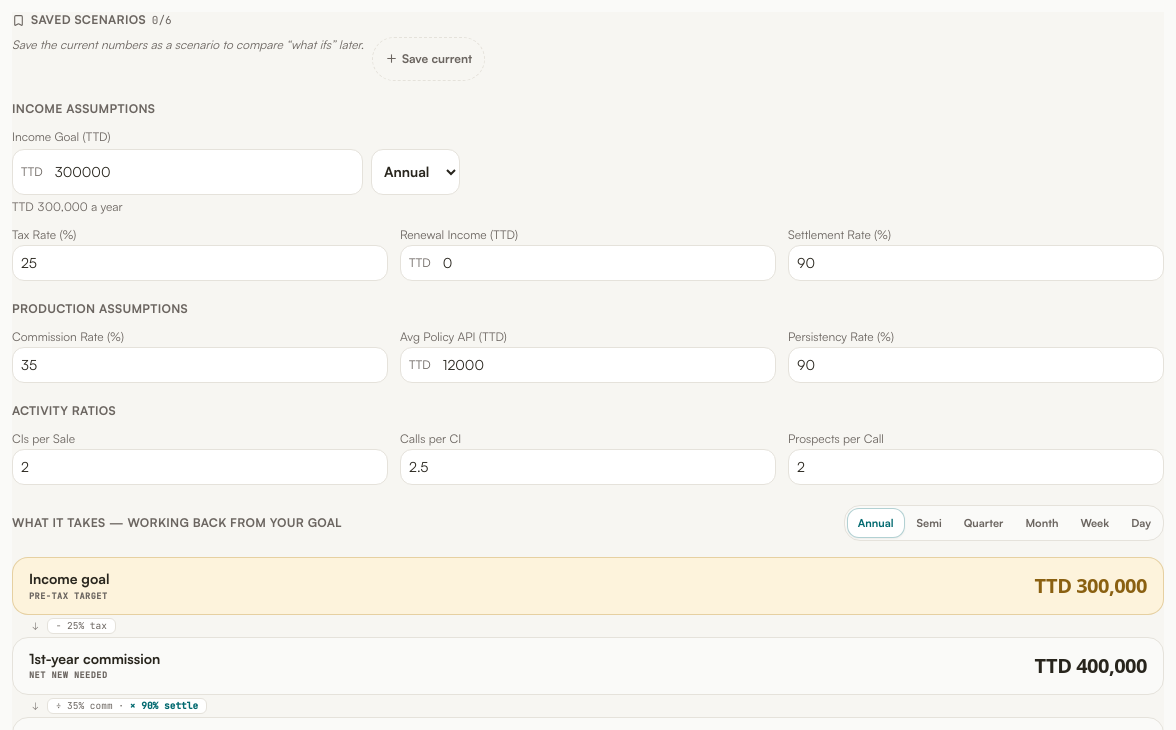
Test: GoalDecompositionTab — R-06 scenario persistence › ROLLS BACK the optimistic chip when the write fails (UI must not claim a save that never landed)
This screenshot has width=1176, height=730.
Check: the element with test id "scenario-chips" is shown, box [12, 12, 485, 81]
Step 1. Click the button with test id "scenario-save-open" → (428,58), box [372, 36, 485, 80]
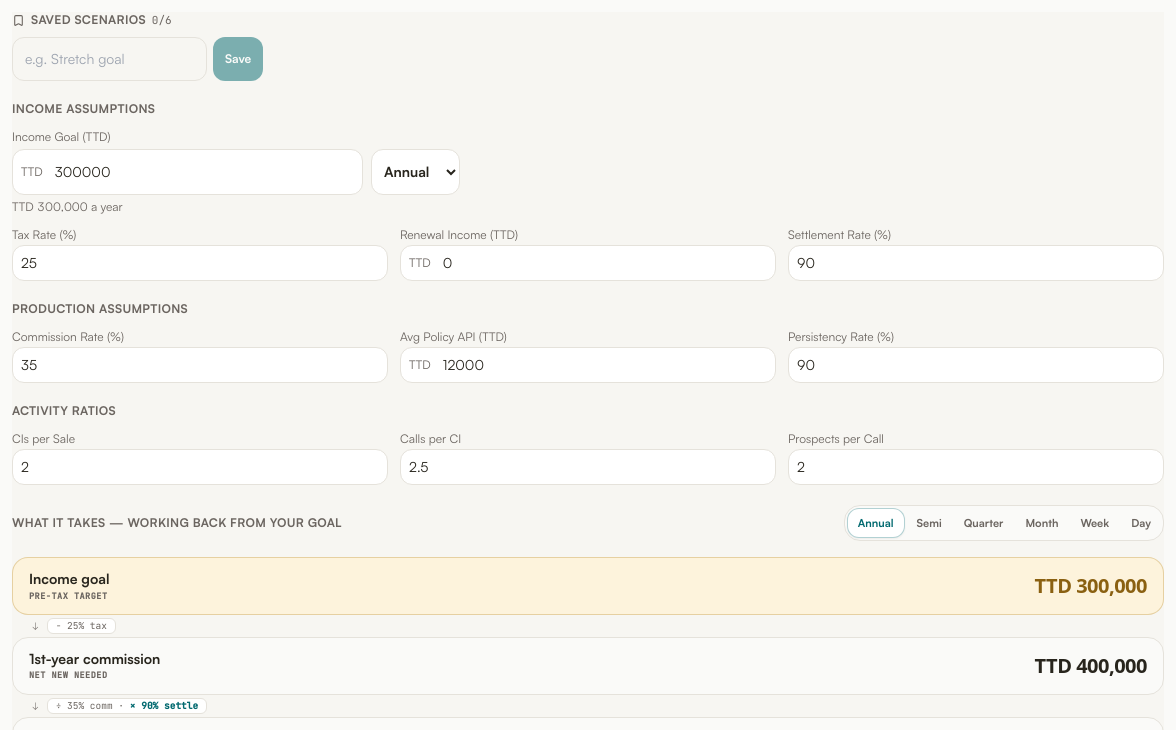
Step 2. Type "Doomed" into the field with test id "scenario-name-input" → (110,58), box [12, 36, 207, 80]
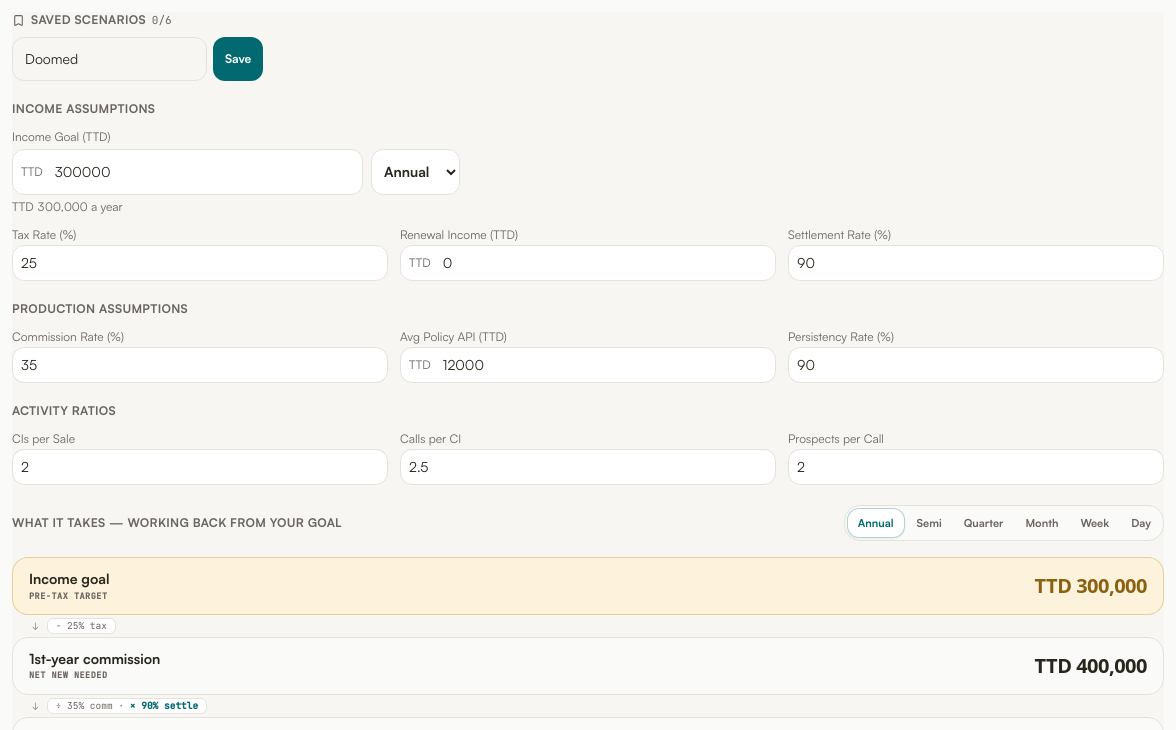
Step 3. Click the button with test id "scenario-save-confirm" → (238,58), box [213, 36, 263, 80]
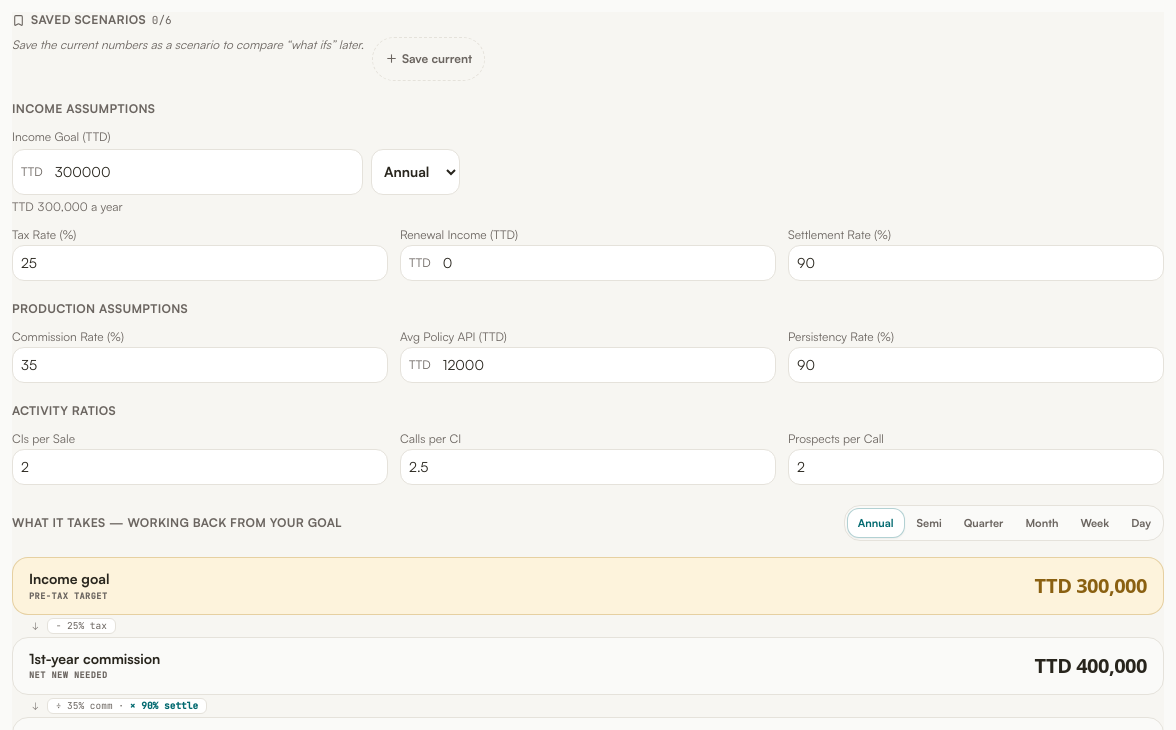
Check: the text "Doomed" is not shown
Check: the text with test id "scenario-chips-empty" is shown, box [12, 36, 364, 52]
